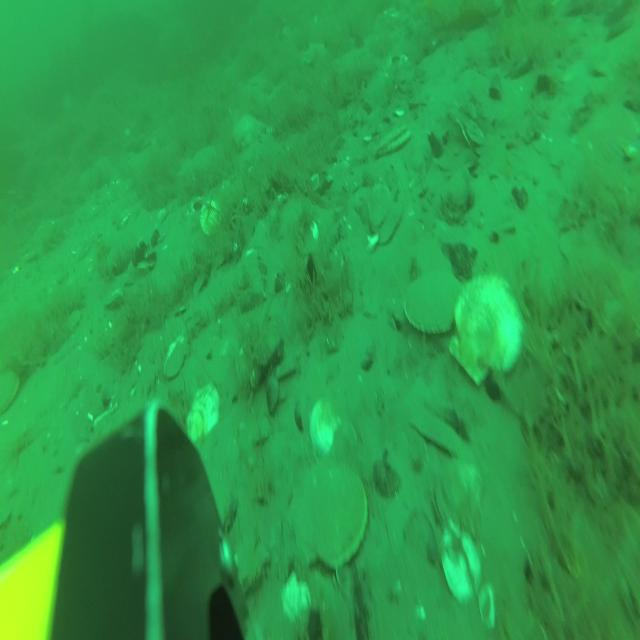scallop: (289, 461, 366, 563), (449, 281, 520, 378), (402, 268, 461, 333), (439, 523, 480, 604), (444, 456, 482, 526), (187, 382, 220, 443), (309, 394, 336, 454), (375, 118, 414, 156), (376, 196, 402, 247), (331, 417, 357, 467), (365, 182, 391, 232), (164, 332, 190, 381), (0, 368, 18, 412), (198, 200, 221, 234)
starfish: (232, 113, 266, 143), (305, 42, 327, 63)
